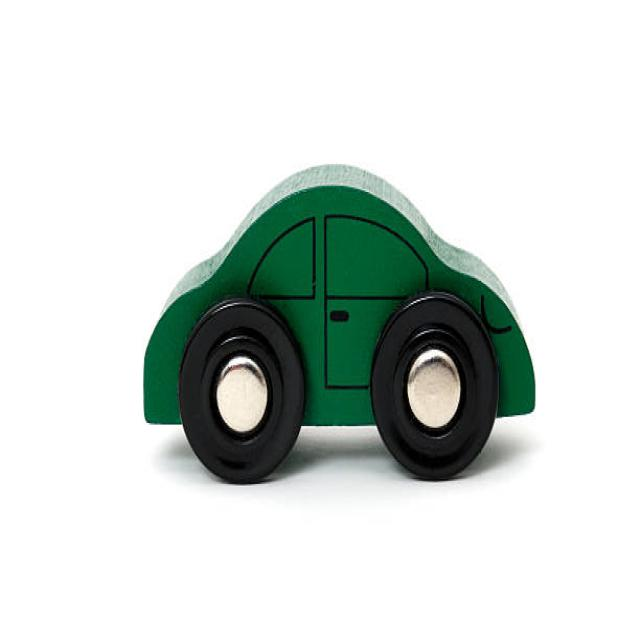Car: (142, 161, 536, 484)
